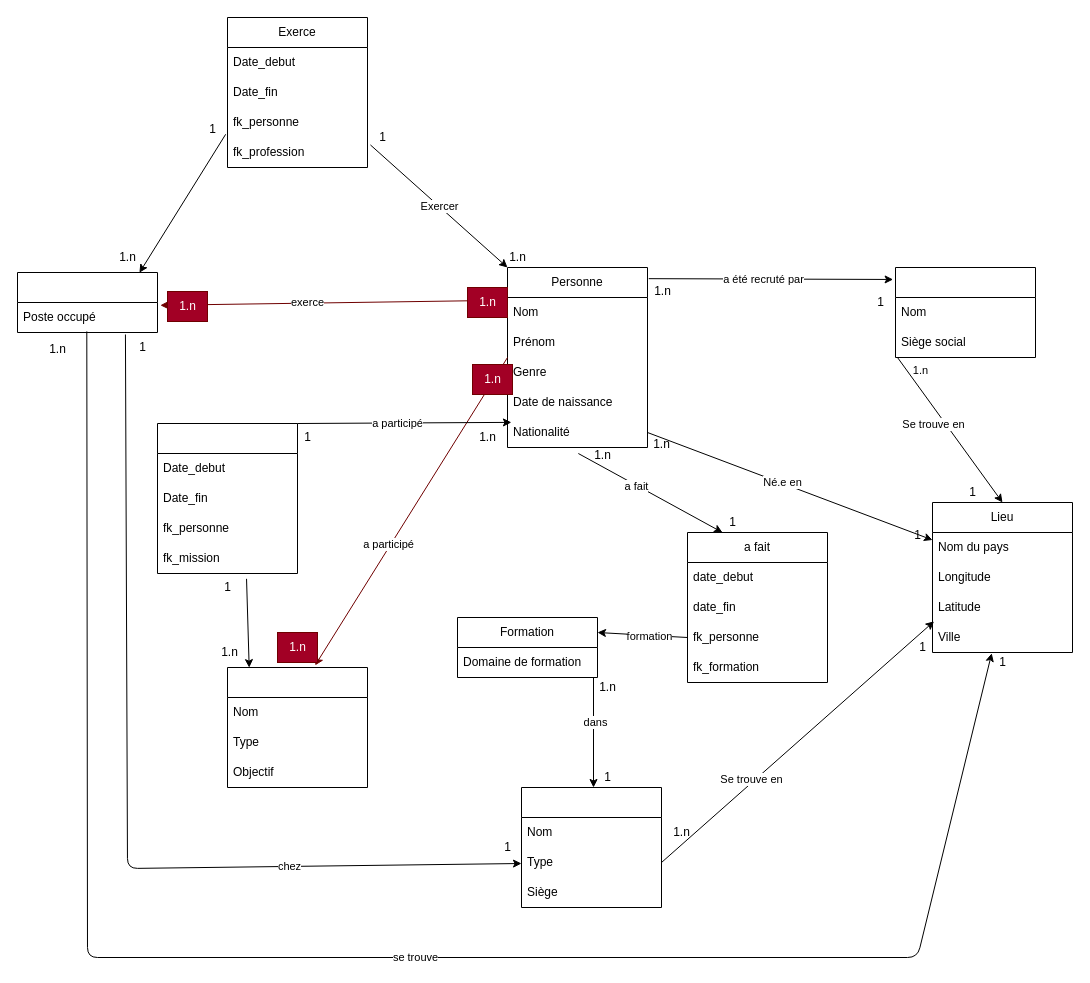
This 1090x983 diagram has some shape labels left out. The shapes that lost their labels are listed below. From the top down, each one's box as (x1, y1, x2, y2) in pixels, then its label:
(16, 272, 158, 332): Profession
(894, 266, 1036, 358): Agence
(156, 422, 298, 574): Participation
(226, 666, 368, 788): Mission
(520, 786, 662, 908): Organisation
